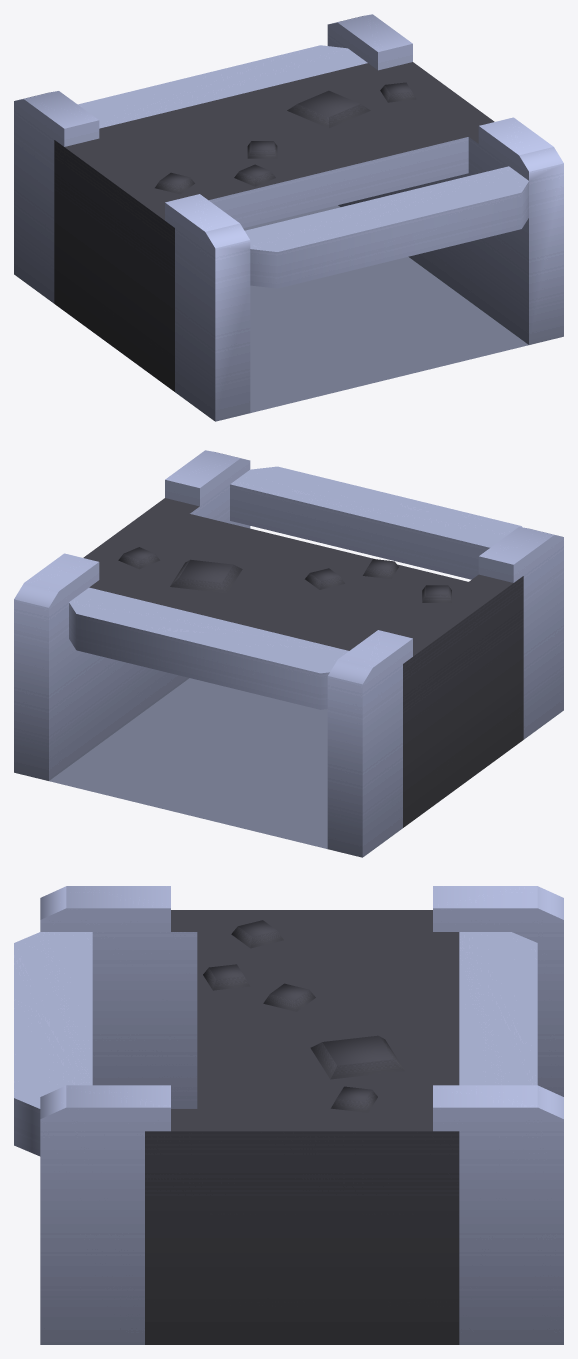
Rendered from corridor4_4_2.glb.
3 renders of one model, top to bottom at view 1: azimuth 30°, elevation 25°; view 2: azimuth 150°, elevation 25°; view 3: azimuth 270°, elevation 25°, orthographic. The views are drawn at different scales.
Visible parts, largest first — view 1: wall-opening; view 2: wall-opening; view 3: wall-opening.
Boxes of the visible parts, left/top/right/bottom form: wall-opening: left=14, top=14, right=563, bottom=421; wall-opening: left=14, top=450, right=563, bottom=857; wall-opening: left=14, top=886, right=563, bottom=1344.
Bounding box in the file's own units: 4 × 2 × 4.2.
Materials: 1 (1 with a texture image).
